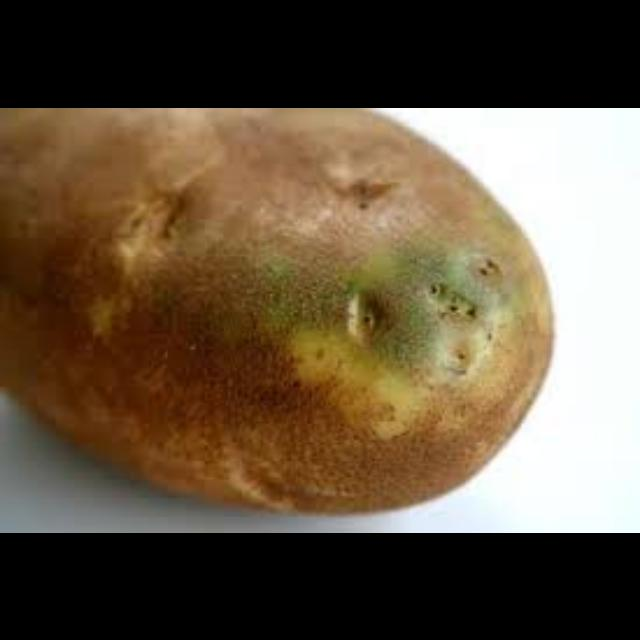Defected potato: (6, 107, 594, 523)
